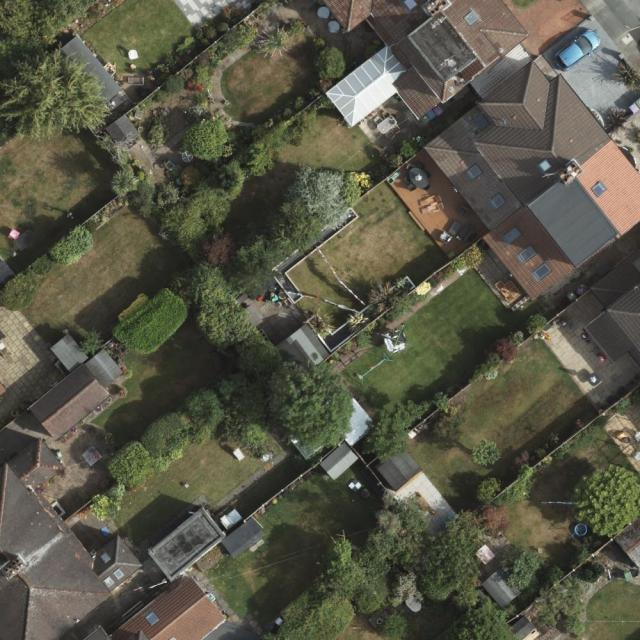roof: (320, 0, 640, 303), (0, 437, 144, 640), (82, 507, 227, 640), (31, 334, 123, 438), (584, 280, 640, 368)
skylight: (503, 226, 524, 247), (532, 261, 554, 281), (463, 8, 483, 28), (518, 245, 538, 264), (465, 163, 485, 181), (537, 156, 554, 173), (489, 194, 507, 210), (144, 610, 160, 626), (590, 183, 607, 197), (102, 575, 115, 588), (113, 568, 125, 582), (99, 551, 111, 563), (404, 0, 418, 9)
